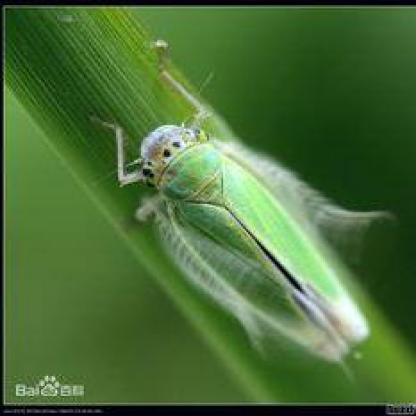Green-Leafhopper: (94, 41, 390, 361)
